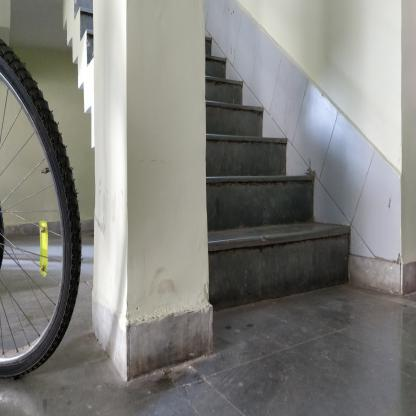stairs: (214, 102, 265, 326)
